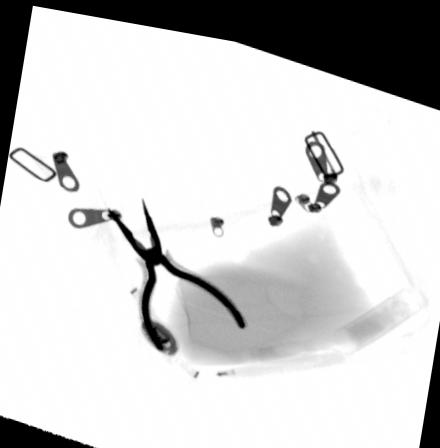Pliers: (107, 190, 250, 348)
